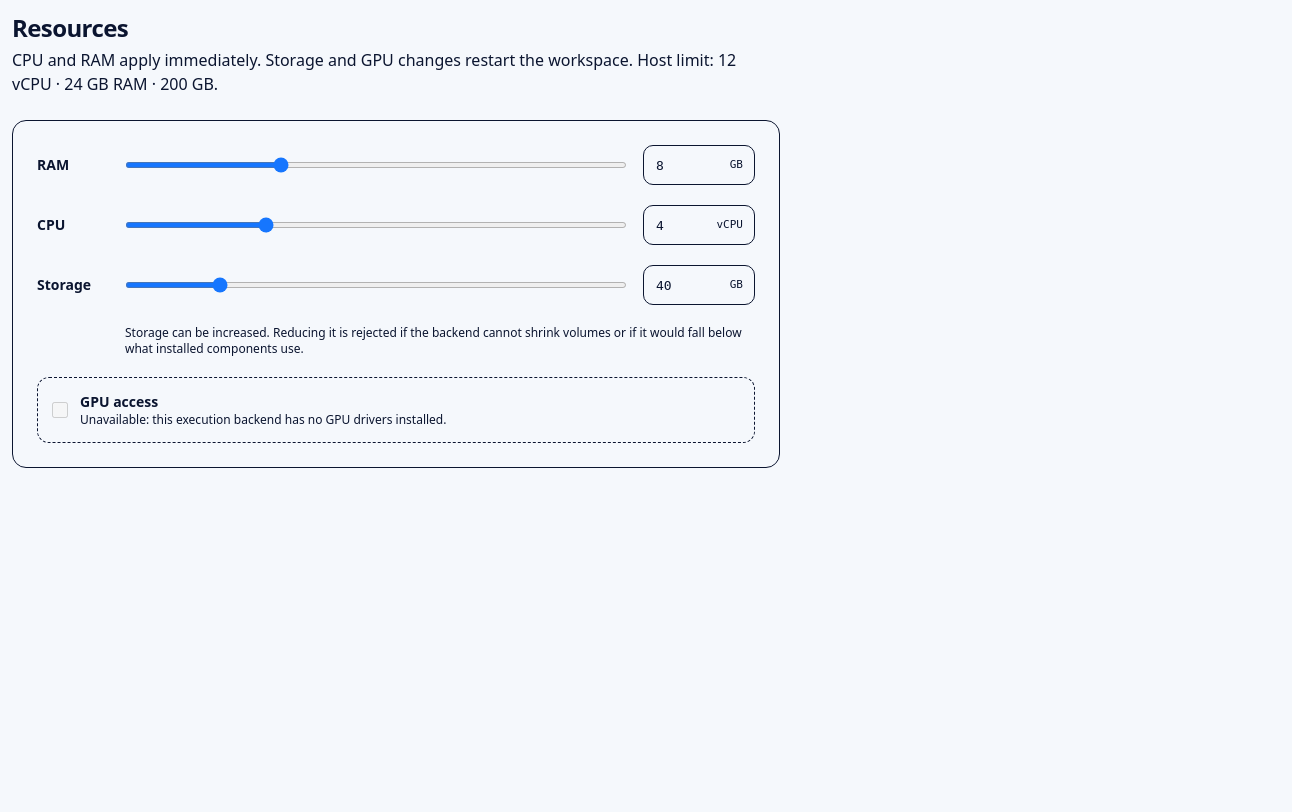
Test: ResourcesTab › a rejected reduction shows the server reason and blocks apply
The image size is (1292, 812).
Replace the text in the number field labelled "Storage" with "20" at {"x": 699, "y": 285}, box [643,265,755,305]
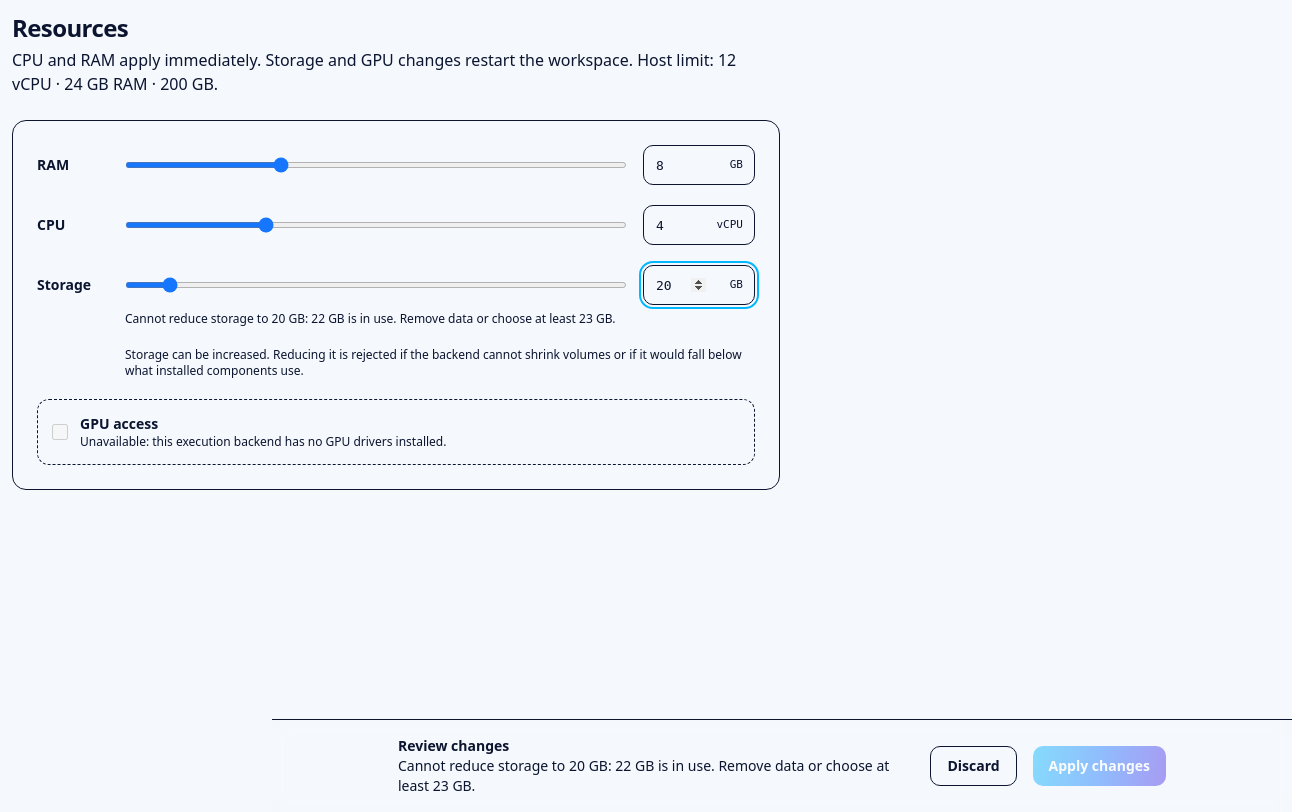
Now the button "Apply changes" is disabled, box [1033,746,1166,786]
Now the 1st text "22 GB is in use" is shown, box [125,310,616,327]
